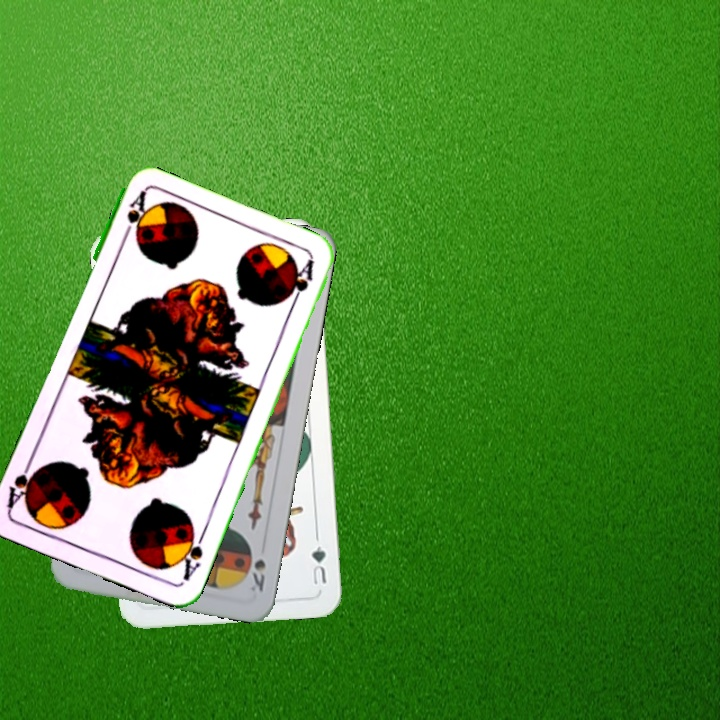GU: (307, 542, 329, 587)
SA: (175, 523, 208, 584), (118, 188, 148, 245)
SK: (246, 555, 269, 595)
